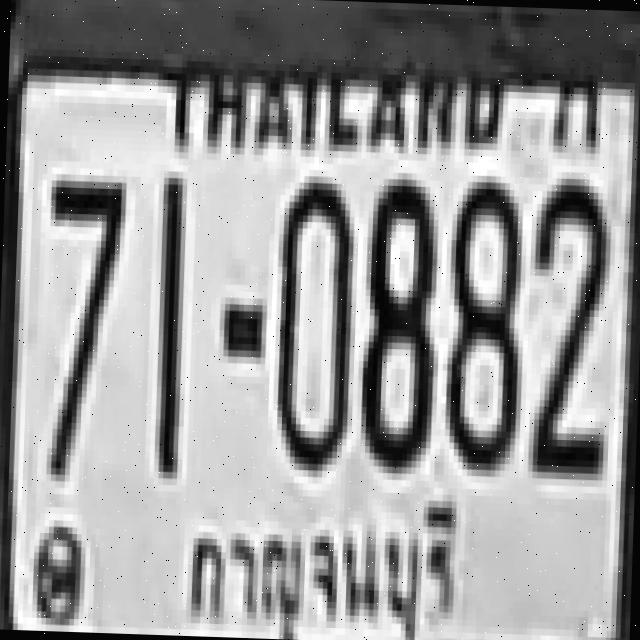0: (270, 174, 350, 464)
2: (524, 174, 608, 444)
7: (38, 176, 122, 466), (38, 173, 122, 430), (40, 173, 122, 378)
8: (354, 171, 434, 467), (439, 174, 519, 464)
Kanchanaburi: (173, 490, 461, 640)
